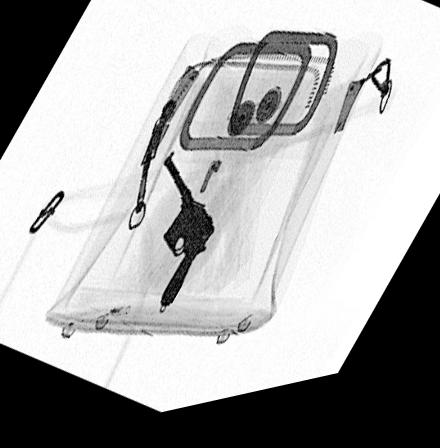Gun: (158, 155, 214, 314)
